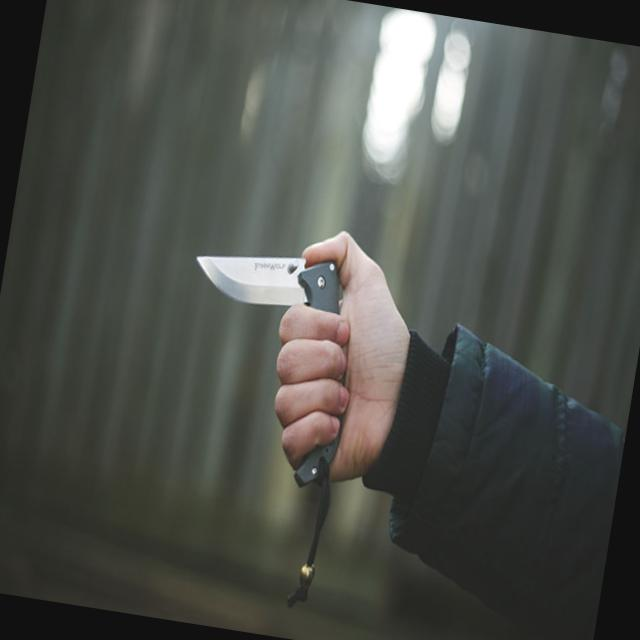knife: (170, 211, 356, 364)
